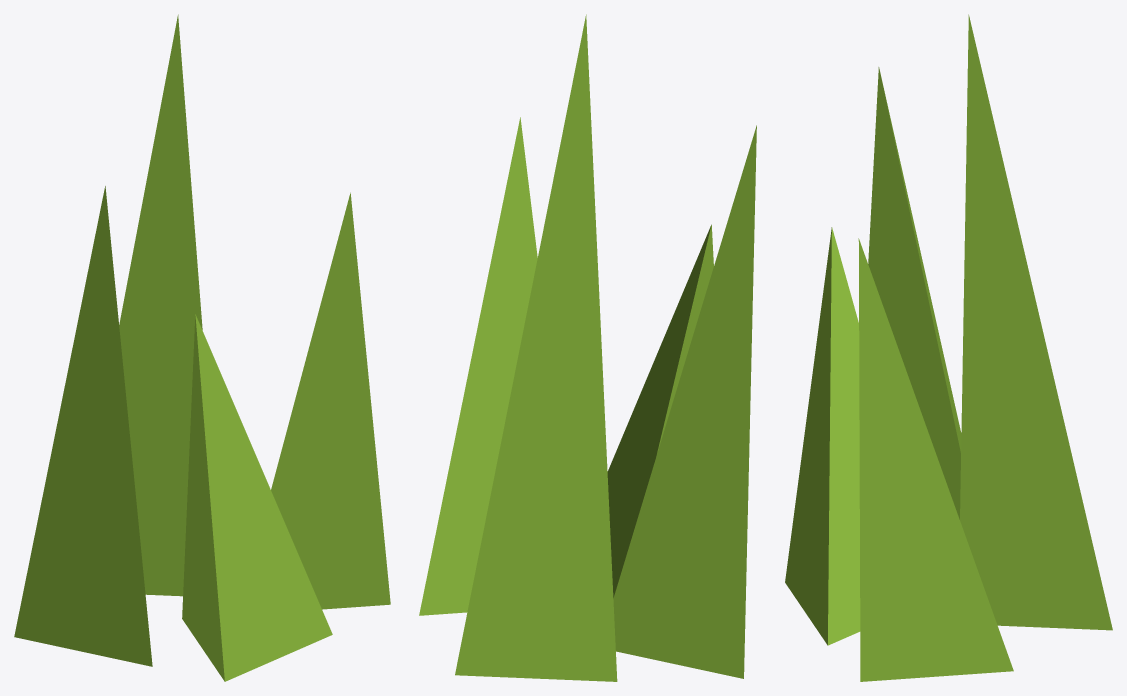
Rendered from grass.dae.
3 renders of one model, left to right at view 1: azimuth 30°, elevation 25°; view 2: azimuth 150°, elevation 25°; view 3: azimuth 270°, elevation 25°, orthographic. The views are drawn at different scales.
Visible parts, largest first — view 1: Cone.004; view 2: Cone.004; view 3: Cone.004.
Boxes of the visible parts, bbox=[...] form: Cone.004: bbox=[14, 14, 390, 681]; Cone.004: bbox=[419, 14, 756, 681]; Cone.004: bbox=[785, 14, 1112, 681].
Bounding box in the file's own units: 0.1822 × 0.1637 × 0.3253.
